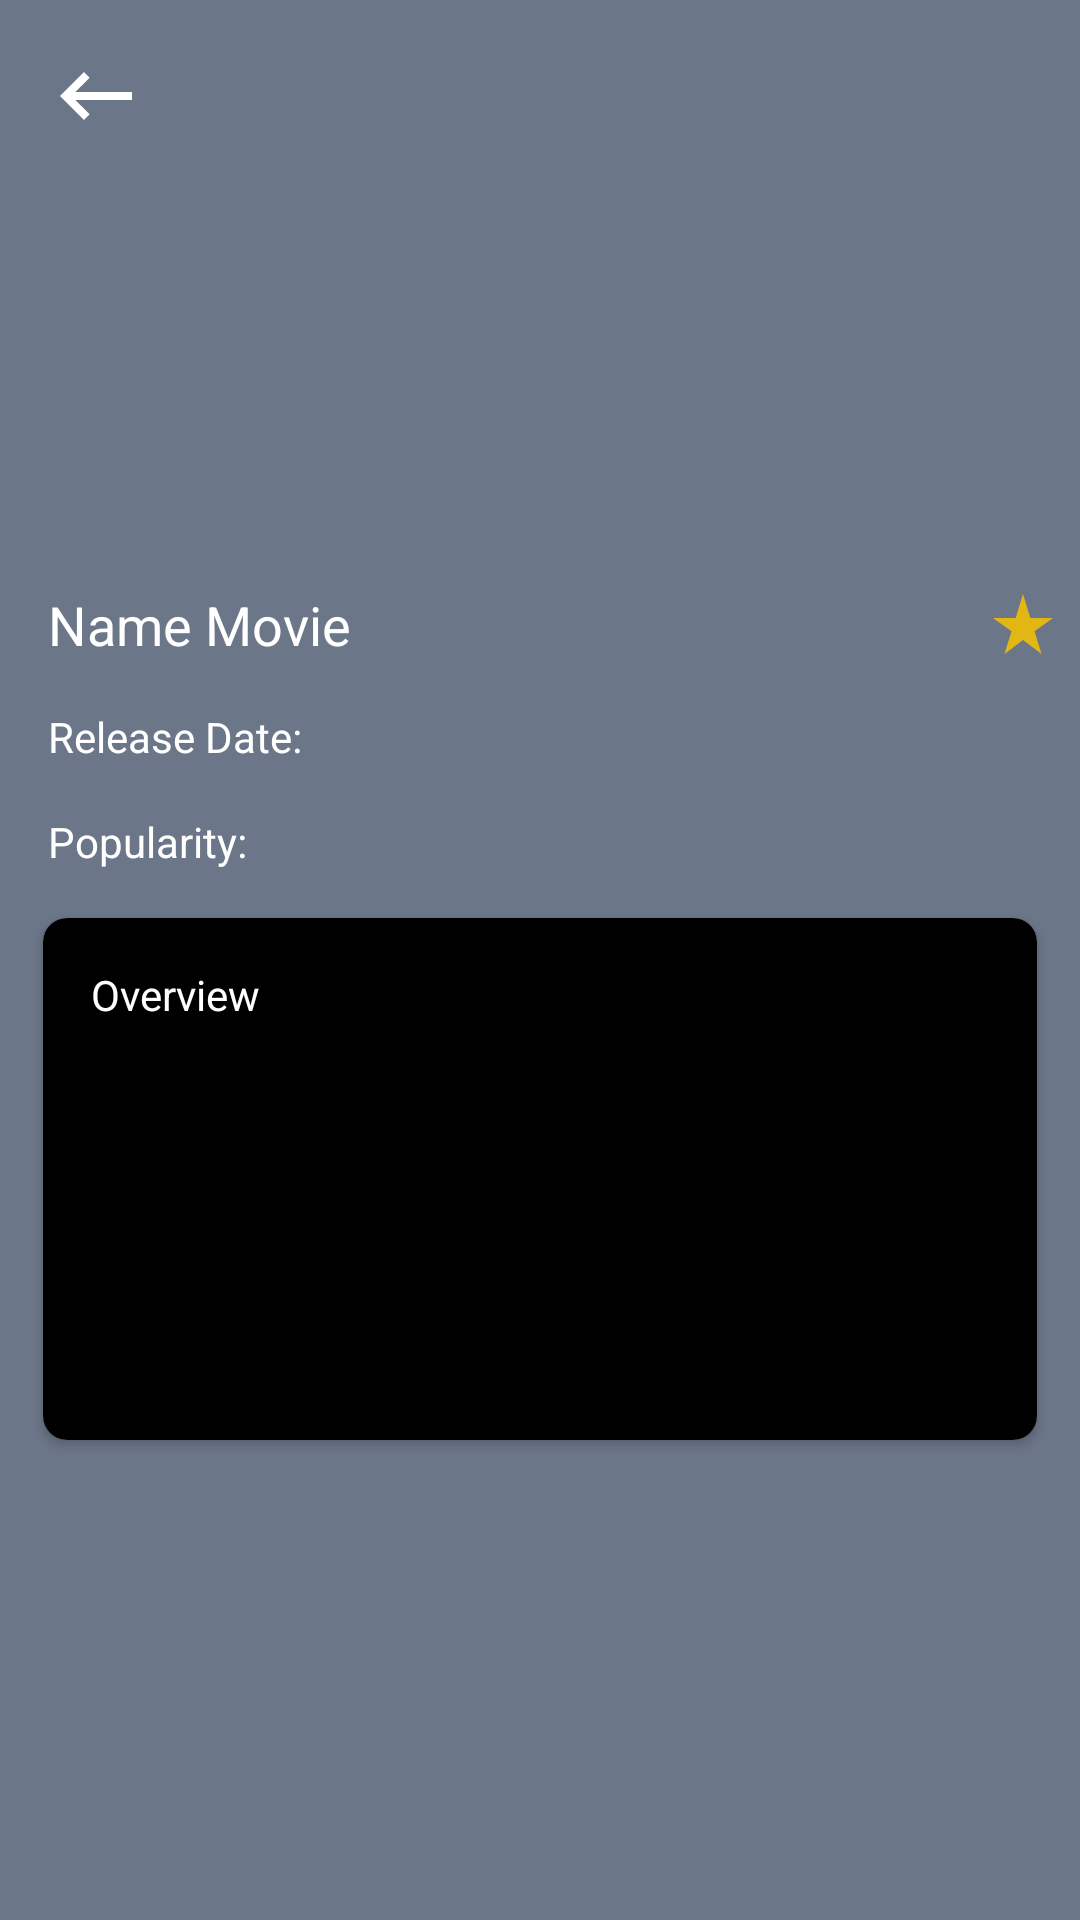

Named icons in this screenshot (1080*1920) and their centers, (x=x, y=y):
star rate: (x=1023, y=624)
